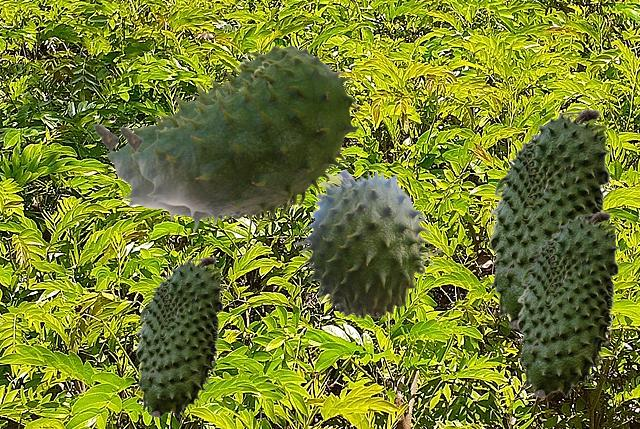guyabano: (93, 45, 347, 231), (119, 53, 359, 226), (488, 108, 610, 329), (294, 167, 443, 319), (516, 211, 619, 397), (135, 256, 223, 417)
